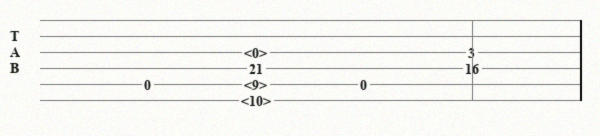0: (144, 77, 155, 91), (360, 77, 371, 91)
16: (465, 61, 483, 75)
21: (249, 61, 267, 75)
3: (468, 45, 479, 59)
harmonic: (241, 93, 275, 107), (244, 77, 271, 91), (244, 45, 271, 59)
